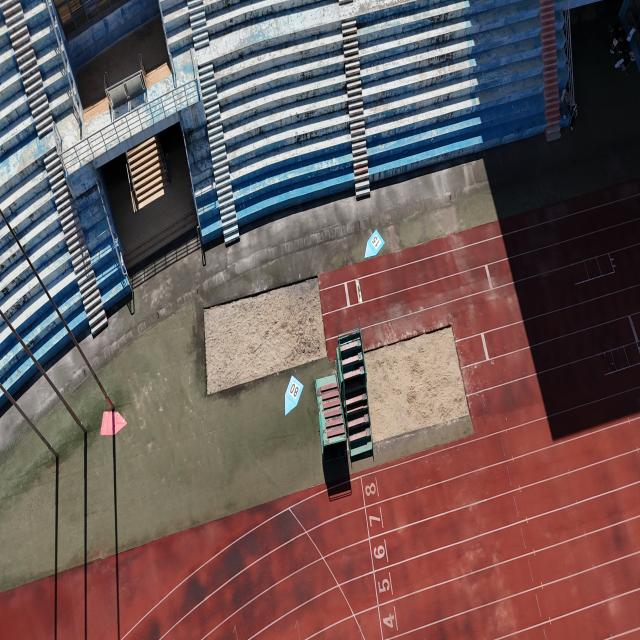board: (285, 375, 304, 416), (100, 411, 128, 436), (364, 229, 385, 258)
